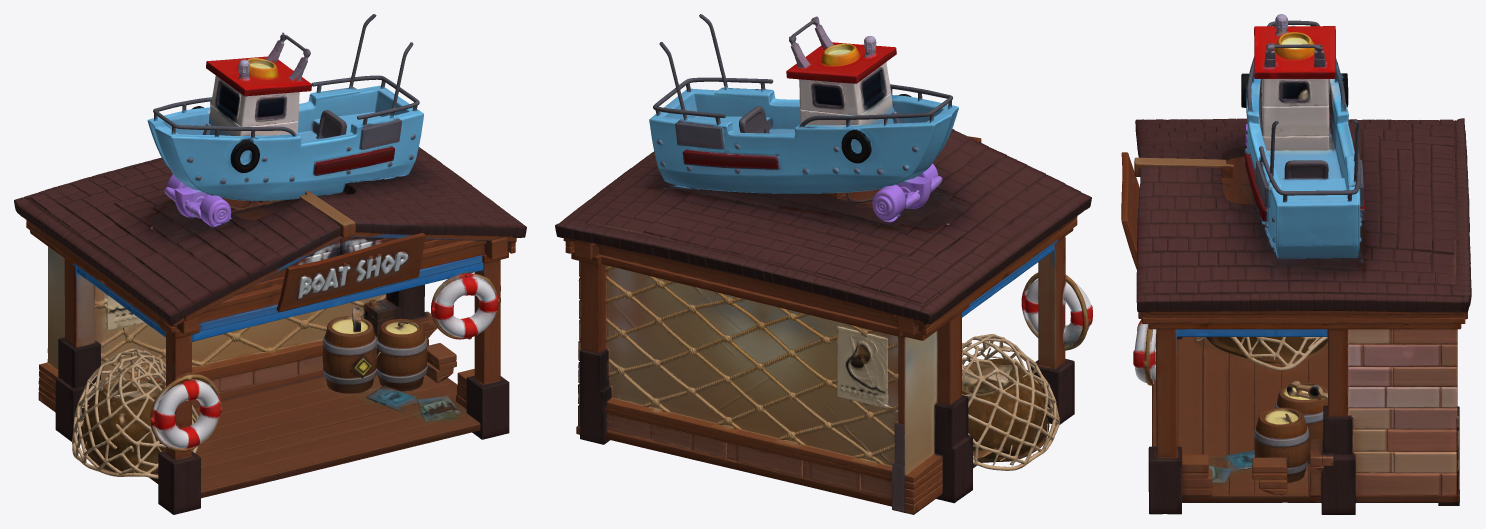
File: BOAT_SHOOP-9dab28cc.glb
3 renders of one model, left to right at view 1: azimuth 30°, elevation 25°; view 2: azimuth 150°, elevation 25°; view 3: azimuth 270°, elevation 25°, orthographic. The views are drawn at different scales.
Parts seen in each view (by area): view 1: tripo_node_6c56f1eb-82b3-4f9a-8c7b-38b7046a81a1; view 2: tripo_node_6c56f1eb-82b3-4f9a-8c7b-38b7046a81a1; view 3: tripo_node_6c56f1eb-82b3-4f9a-8c7b-38b7046a81a1.
Part boxes in pixels (bbox=[...]): tripo_node_6c56f1eb-82b3-4f9a-8c7b-38b7046a81a1: bbox=[14, 14, 526, 514]; tripo_node_6c56f1eb-82b3-4f9a-8c7b-38b7046a81a1: bbox=[555, 14, 1092, 514]; tripo_node_6c56f1eb-82b3-4f9a-8c7b-38b7046a81a1: bbox=[1121, 14, 1471, 514].
Size of the model in its own units: 0.9792 by 0.9252 by 0.7404.
1 material, 1 textured.
